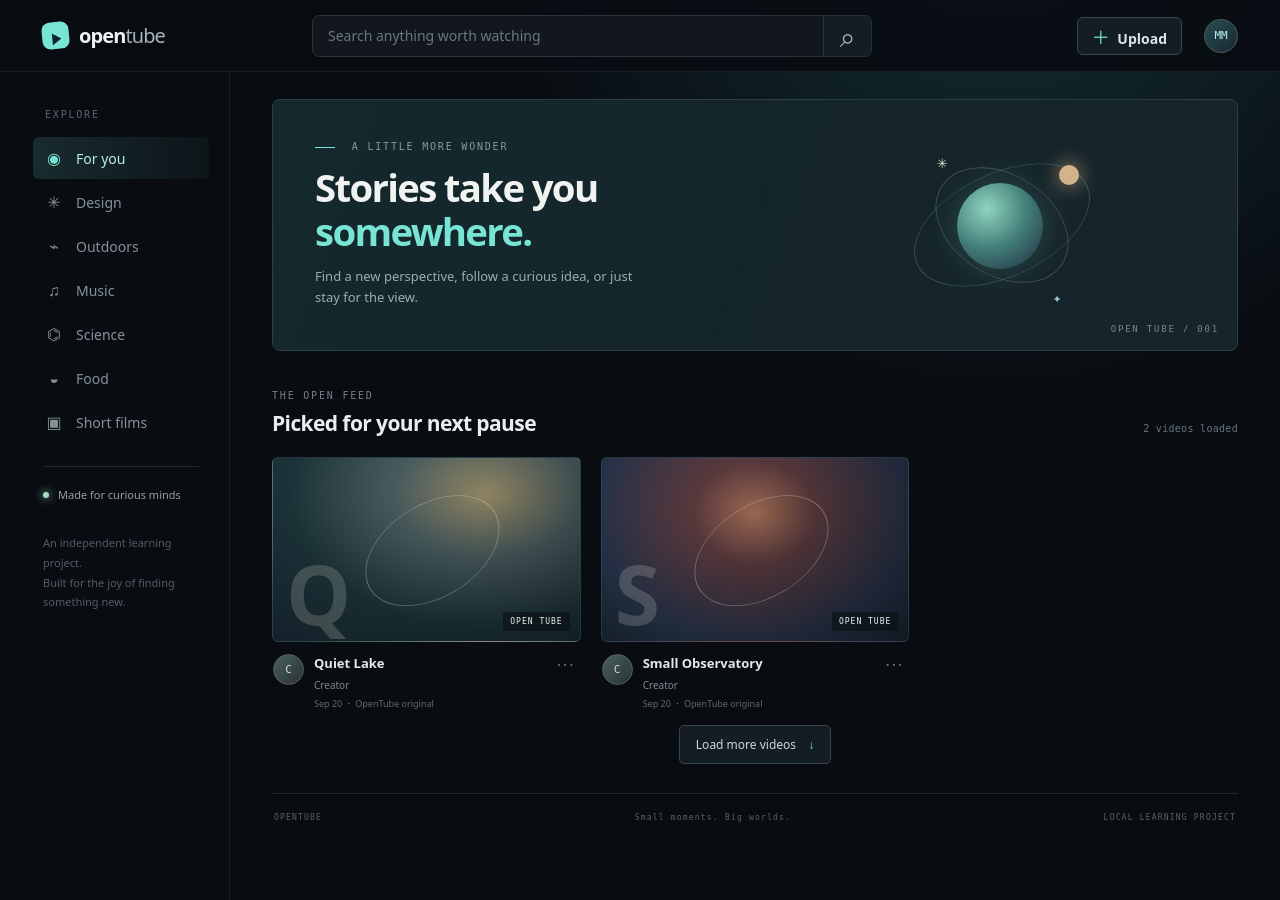
OpenTube feed and creator flows › opens sign-in when a visitor selects upload
Click the button with class "upload-button" at (1129, 36), box [1077,16,1182,54]
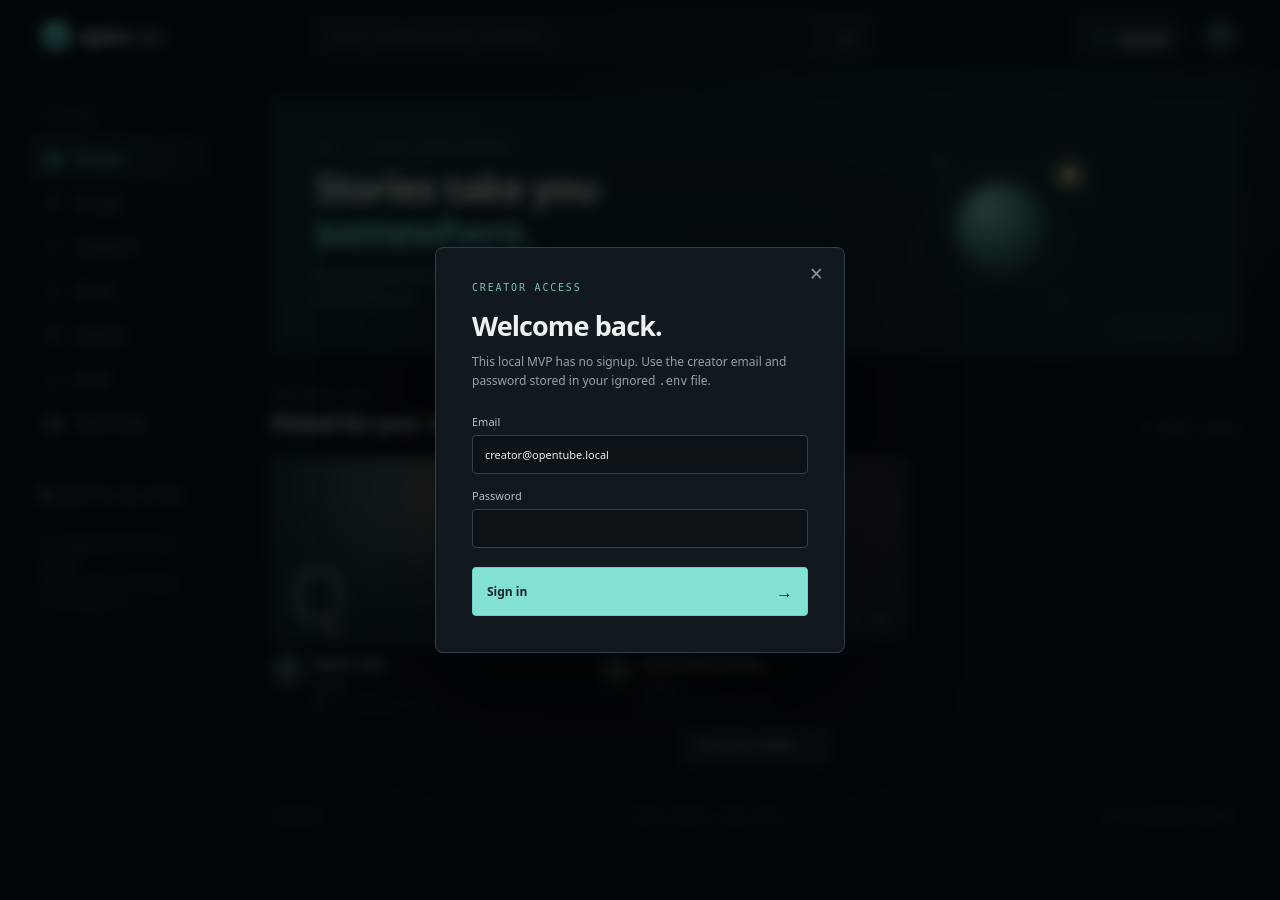
Expected: the heading "Welcome back." is shown, [472,307,662,344]
